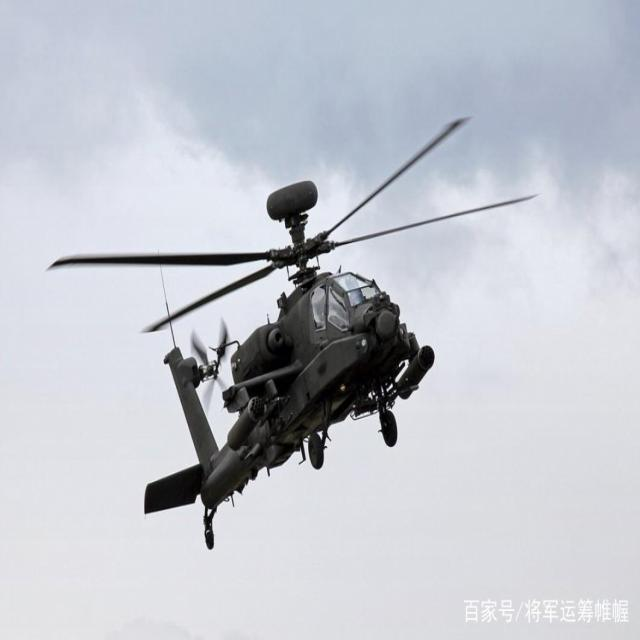MIL_HELO: (41, 101, 547, 558)
